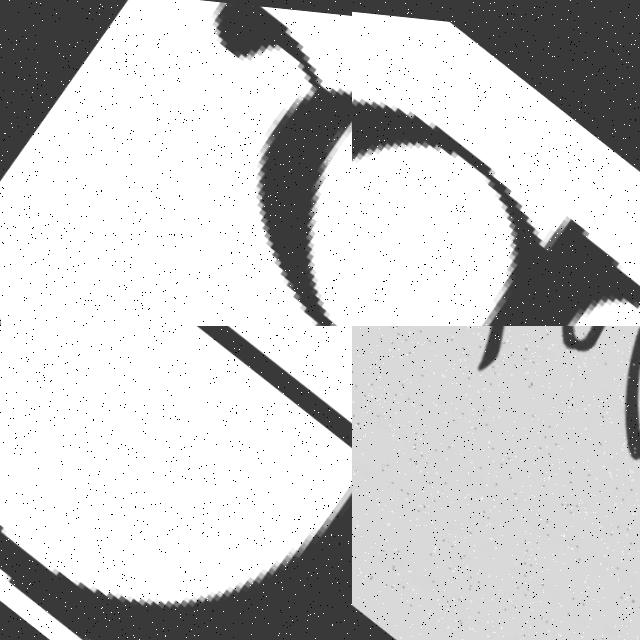5: (537, 326, 640, 482)
7: (386, 326, 630, 404)
E: (0, 462, 352, 640)
G: (0, 0, 352, 326)
P: (352, 91, 640, 326)
